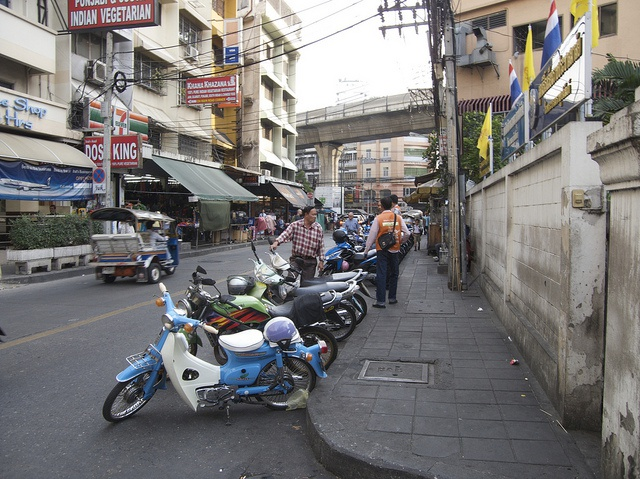non-vehicle: (97, 260, 323, 422), (176, 270, 347, 371), (246, 239, 360, 341), (263, 245, 378, 323), (317, 230, 377, 284)
